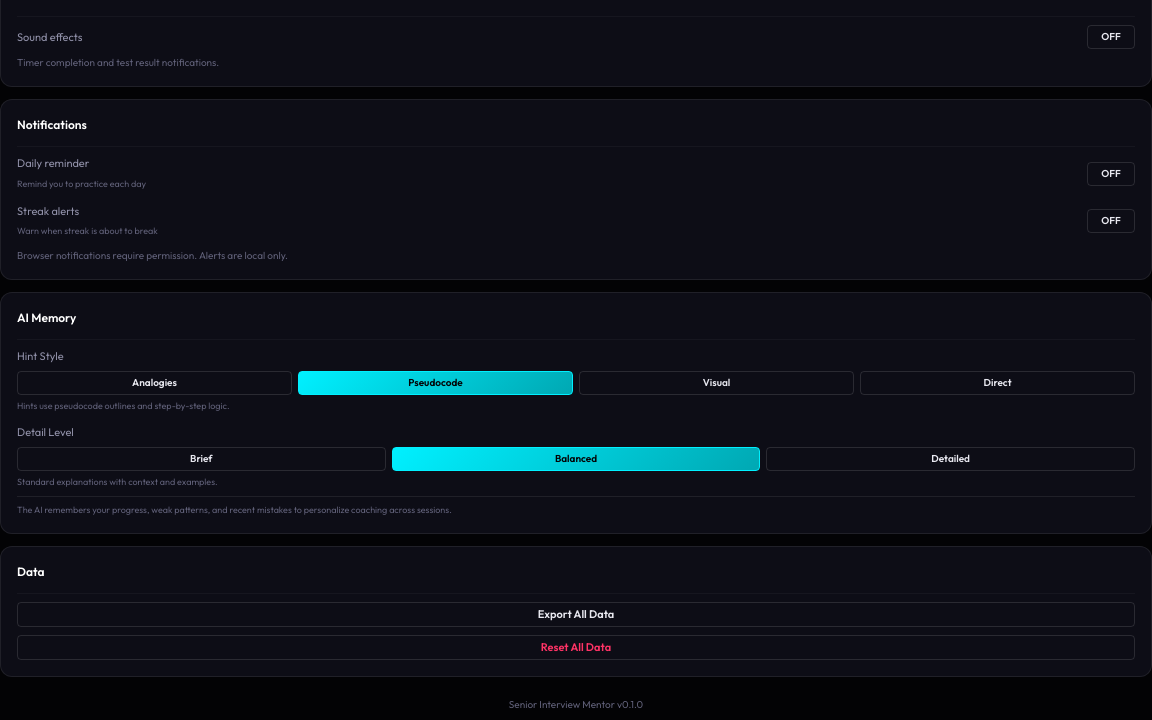
Test: SettingsPanel › Reset All Data modal › clicking Close button closes modal
This screenshot has width=1152, height=720.
(page scrolled)
Click the button "Reset All Data" at (576, 647), box [17,634,1135,660]
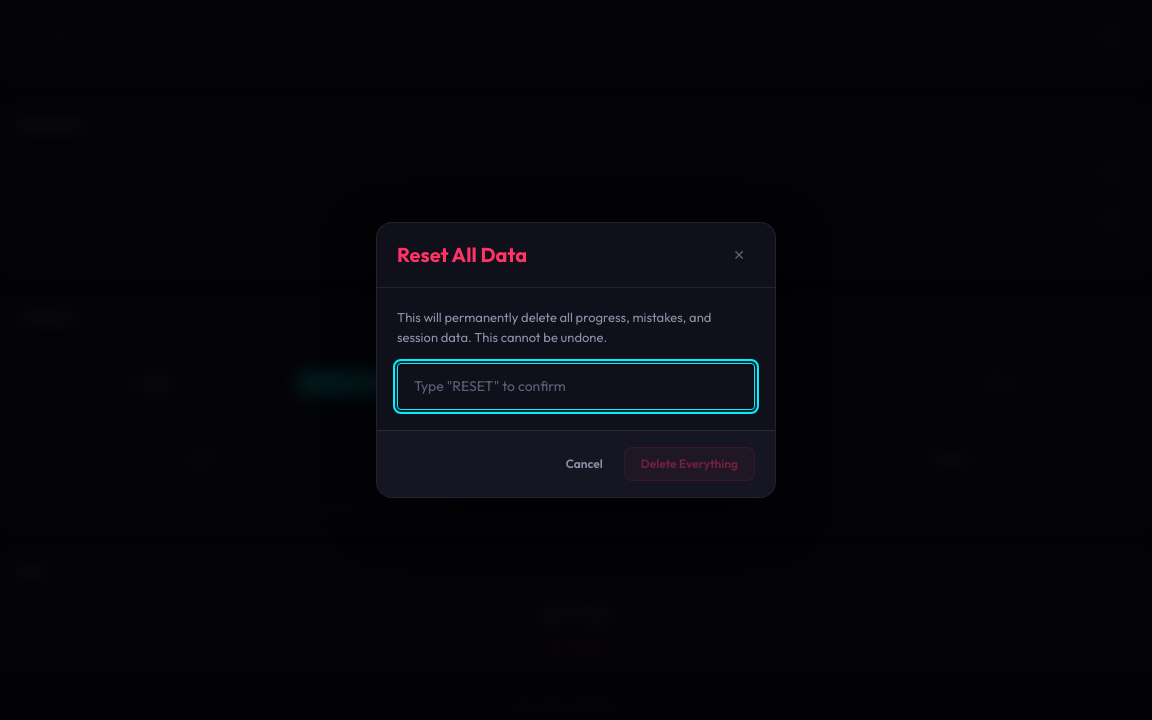
Click the button named "Close" at (739, 255), box [723,239,755,271]
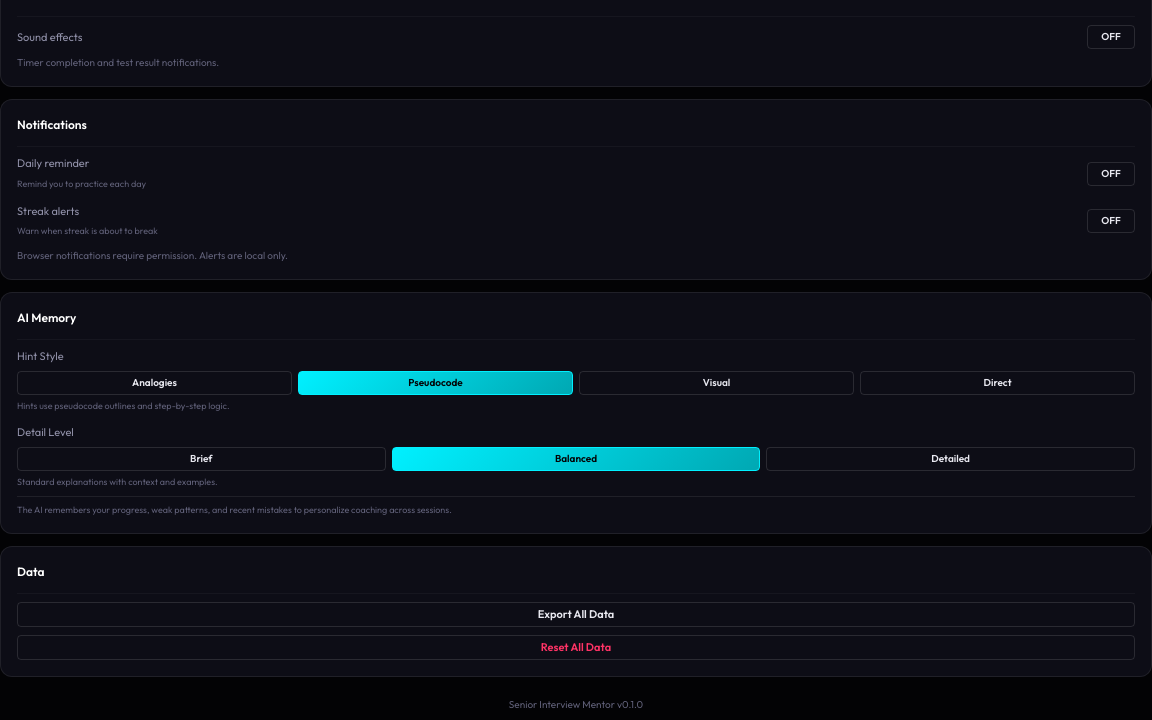
Now the text "This will permanently delete" is gone
